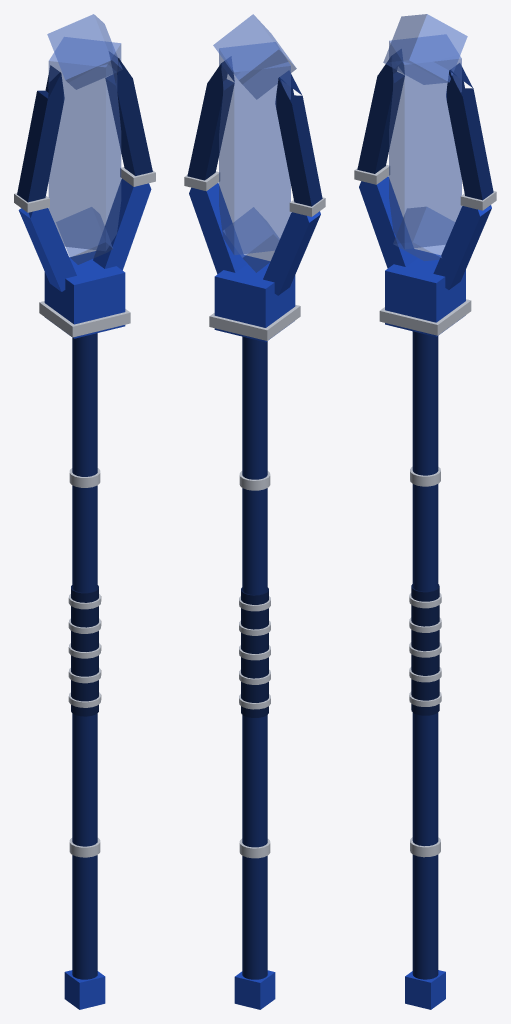
3 views of the same model, side by side, from view 1: azimuth 30°, elevation 25°; view 2: azimuth 150°, elevation 25°; view 3: azimuth 330°, elevation 25° (orthographic).
Visible parts, largest first — view 1: frostbloom-staff; view 2: frostbloom-staff; view 3: frostbloom-staff.
Part boxes in pixels (<box>): frostbloom-staff: <box>14,14,155,1009</box>; frostbloom-staff: <box>184,14,325,1009</box>; frostbloom-staff: <box>354,14,496,1009</box>.
Bounding box in the file's own units: 0.2134 × 1.57 × 0.1251.
